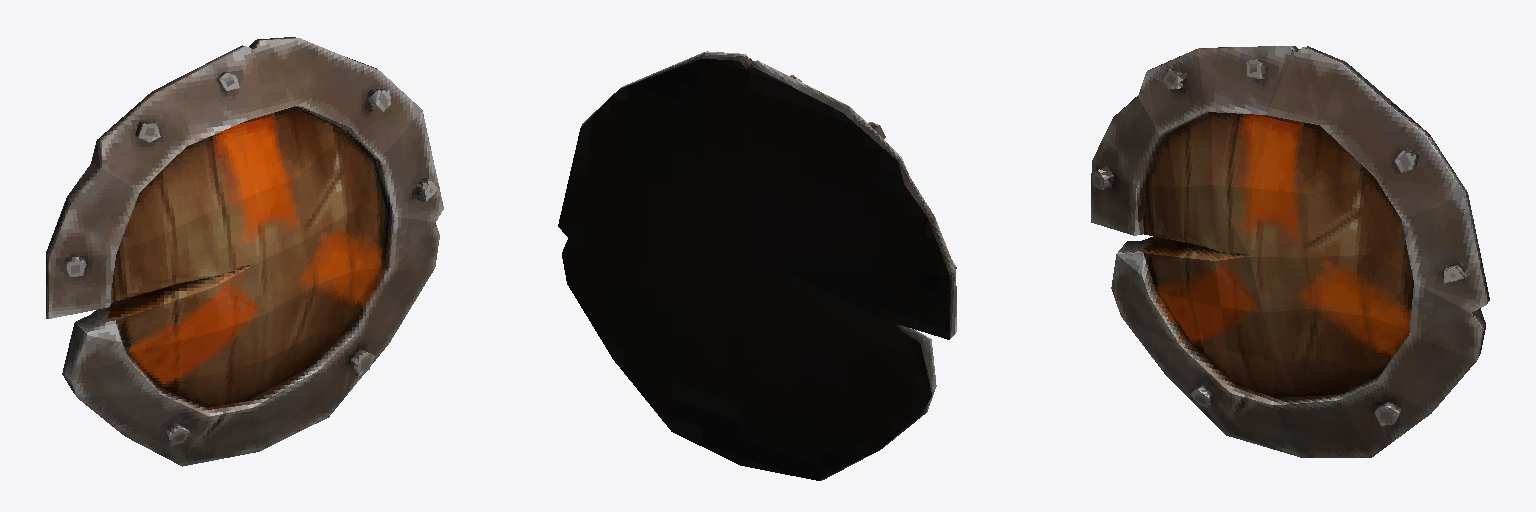
3 renders of one model, left to right at view 1: azimuth 30°, elevation 25°; view 2: azimuth 150°, elevation 25°; view 3: azimuth 330°, elevation 25°, orthographic.
Parts seen in each view (by area): view 1: g0; view 2: g0; view 3: g0.
Part boxes in pixels (x1,y1,x2,y2): g0: (46,37,443,466); g0: (558,51,956,480); g0: (1091,46,1489,457).
Size of the model in its own units: 0.7296 by 0.7253 by 0.0974.
1 materials, 1 textured.